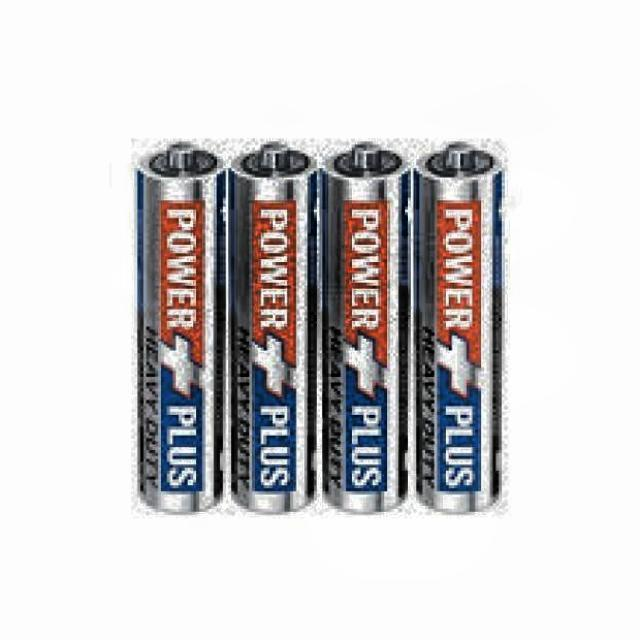battery: (135, 142, 226, 512), (230, 142, 320, 513), (413, 148, 503, 514)
